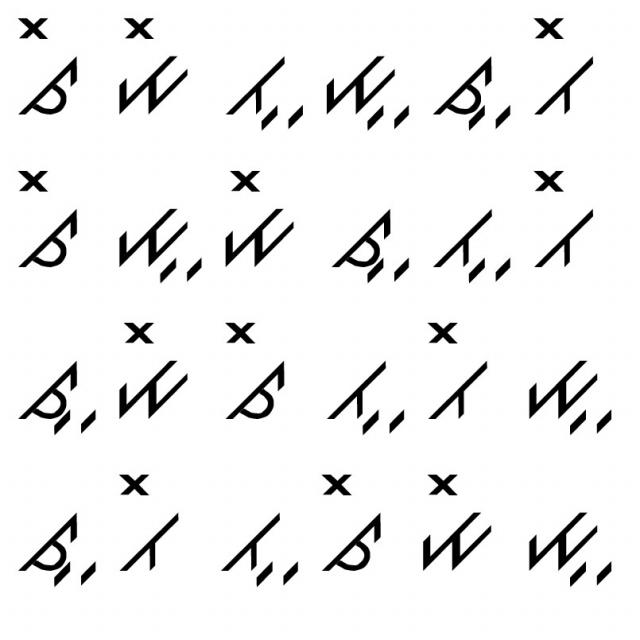bah: (314, 348, 408, 436), (433, 199, 519, 290), (225, 42, 310, 134), (217, 511, 304, 588)
bo: (418, 317, 491, 426), (530, 166, 600, 278), (530, 13, 600, 120)
cah: (324, 202, 416, 284), (18, 351, 102, 436), (12, 511, 103, 589), (432, 47, 517, 129)
co: (4, 160, 87, 272), (214, 318, 292, 430), (11, 15, 88, 120), (316, 470, 388, 578)
mah: (518, 498, 620, 590), (107, 194, 206, 285), (523, 348, 616, 438), (320, 48, 415, 135)
mo: (413, 464, 498, 575), (214, 164, 298, 272), (110, 316, 193, 420), (113, 13, 191, 117), (114, 468, 181, 580)
